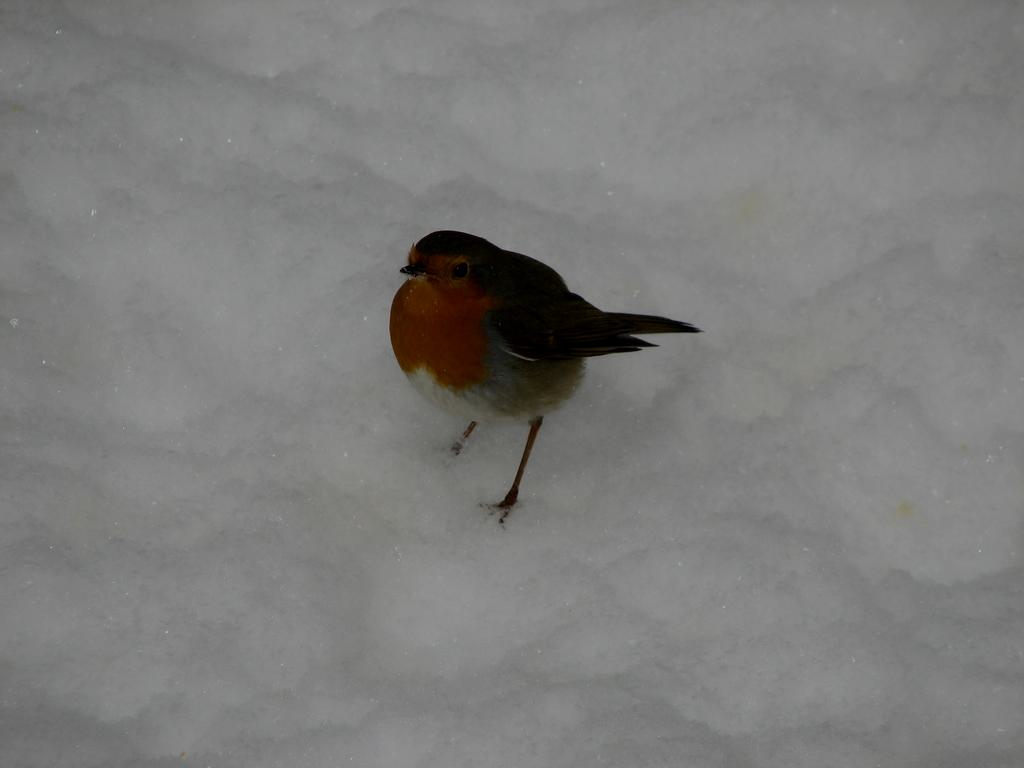ErithacusRubecula: (389, 229, 704, 524)
